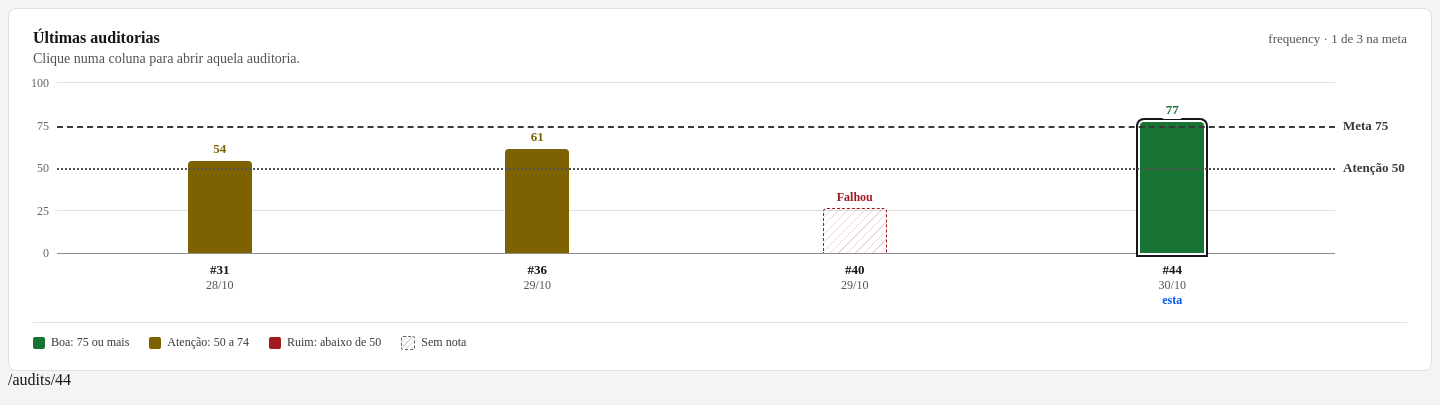
Scenario: AuditHistoryChart › clicar na coluna (ou no valor dela) abre o resultado daquela auditoria
What coordinates should you click on to do the following:
click the link "61"
I would click on:
 (537, 168)
Its box is [505,83,569,253].
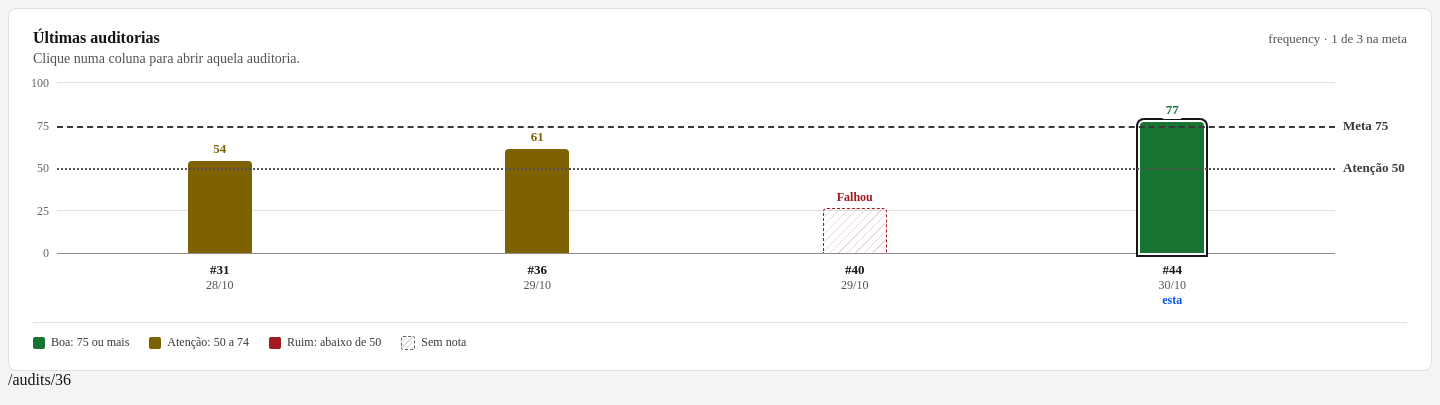
Check: the text with test id "onde" reads "/audits/36", box [8,371,71,388]
